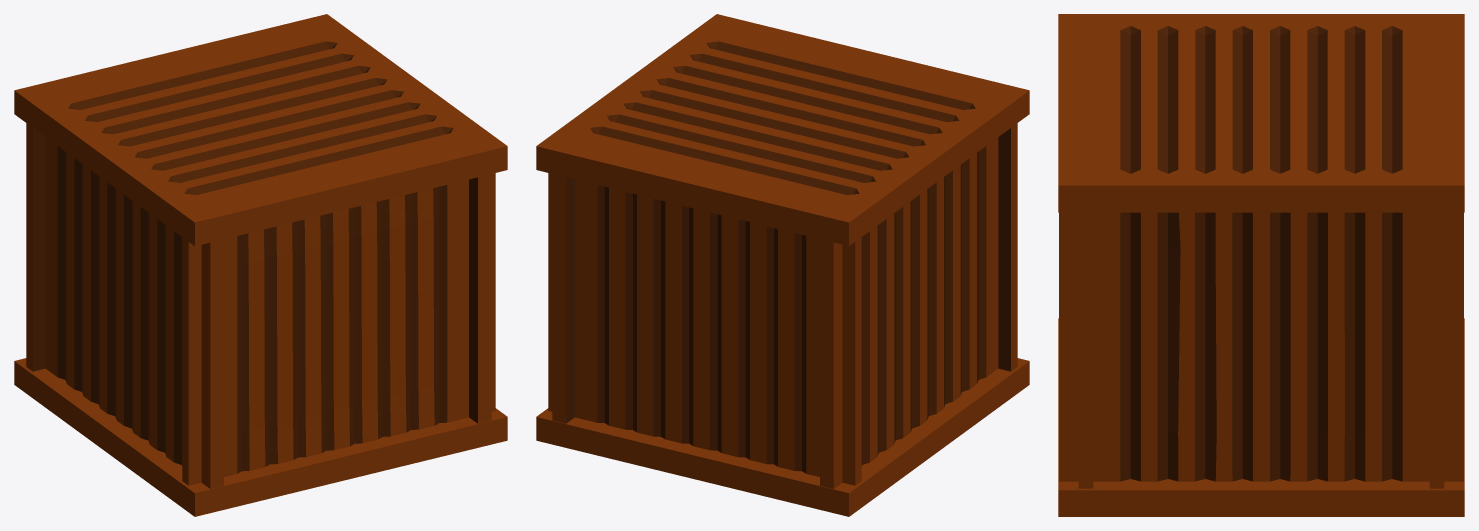
The picture shows the model from 3 angles, left to right: view 1: azimuth 30°, elevation 25°; view 2: azimuth 150°, elevation 25°; view 3: azimuth 270°, elevation 25°; orthographic projection. The views are drawn at different scales.
Visible parts, largest first — view 1: Box; view 2: Box; view 3: Box.
Part boxes in pixels (x1,y1,x2,y2): Box: [14, 14, 507, 516]; Box: [536, 14, 1029, 516]; Box: [1058, 14, 1464, 516].
Bounding box in the file's own units: 223 × 200 × 223.
